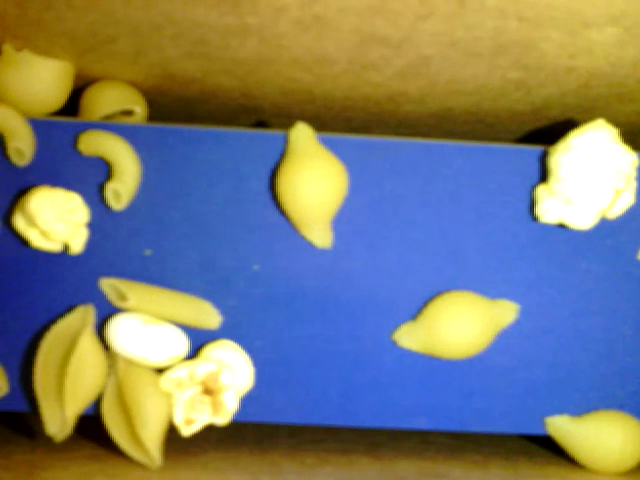elbow: (76, 129, 142, 210), (1, 104, 37, 165)
penne: (98, 277, 224, 330)
shell: (34, 304, 107, 441), (273, 121, 348, 248), (392, 290, 519, 360), (98, 351, 170, 466), (545, 407, 639, 470), (1, 44, 74, 115), (77, 79, 147, 121)
